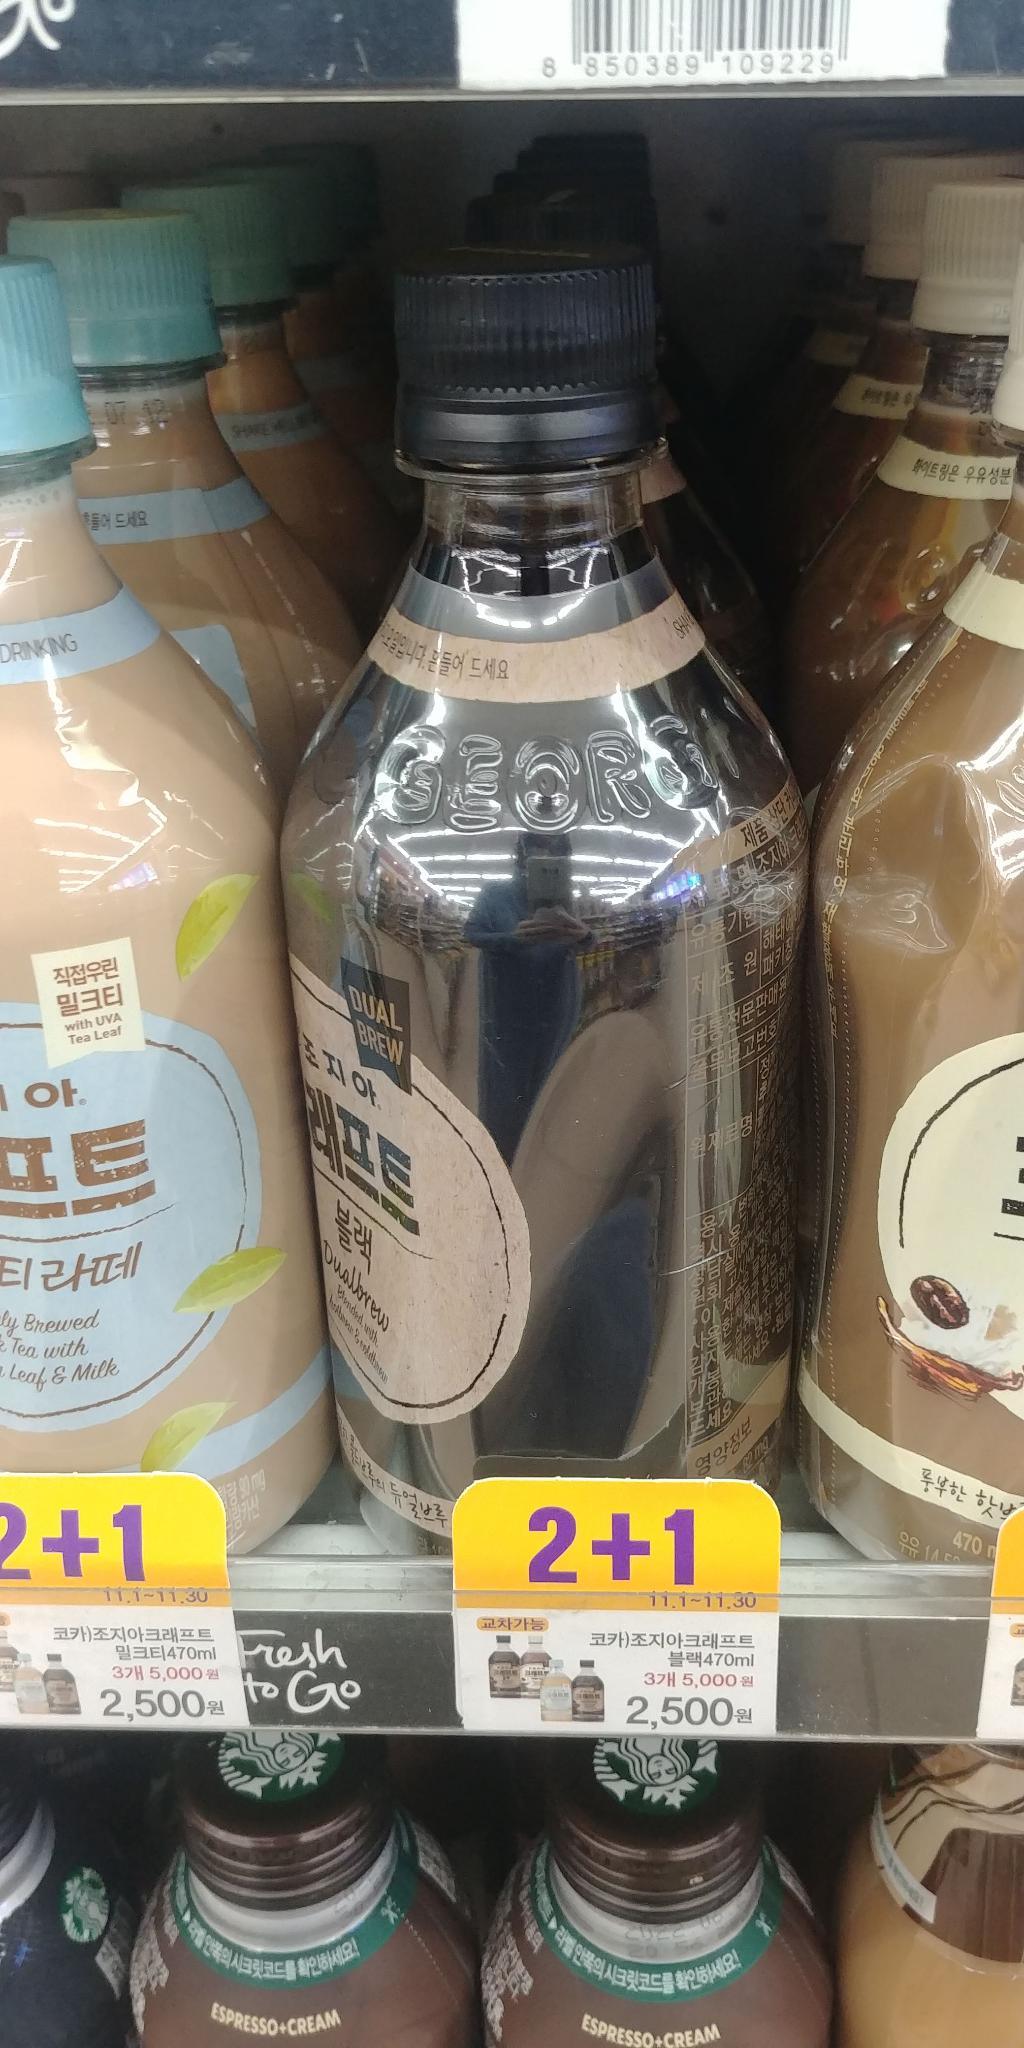georgiacraft_black: (299, 248, 833, 1537)
